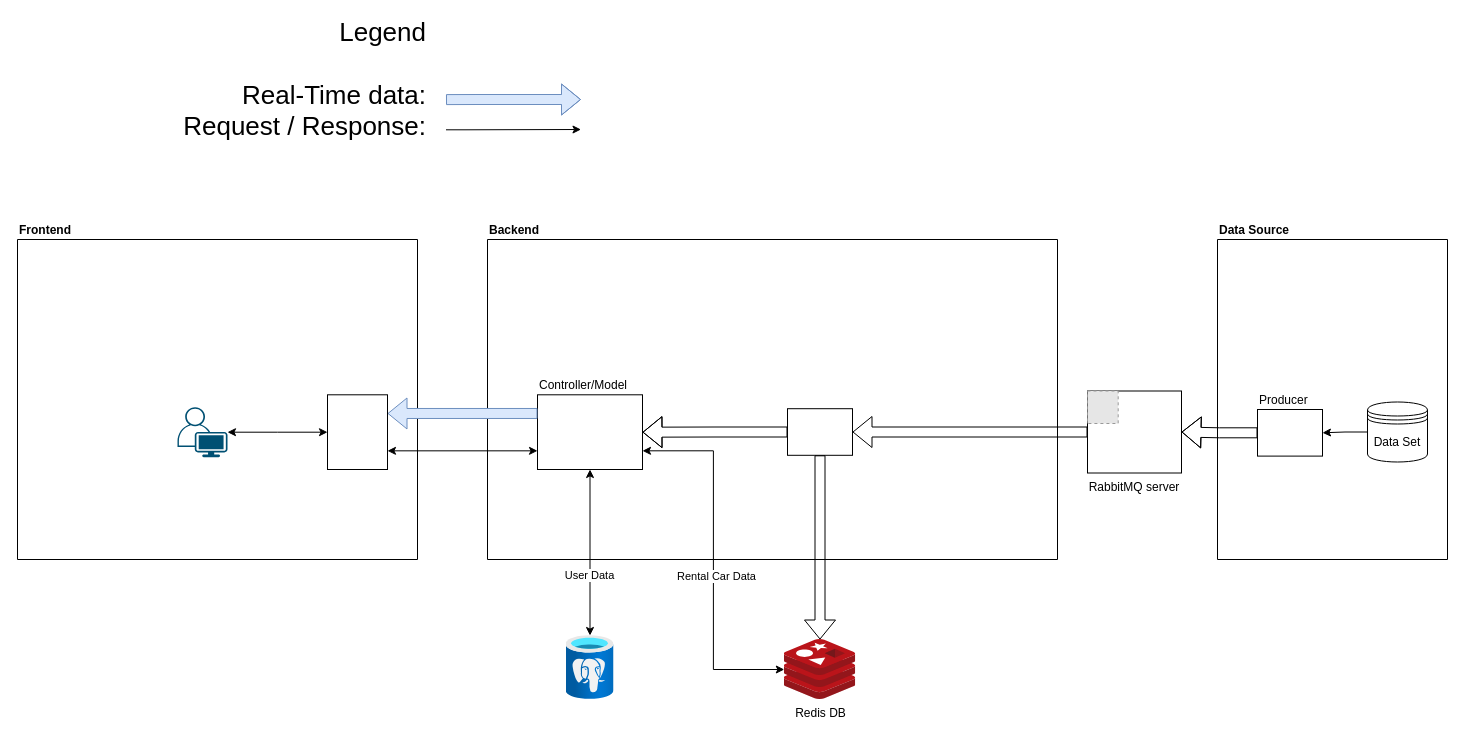
Some shapes in this 1465 by 738 pixel diagram are drawn without their labels. Grey dashed boxes stand in for pictures. The centre of each missing label's shape, as x and y in pixels:
Consumer: pixel 819 431
PostgreSQL DB: pixel 590 667
user: pixel 202 432
Webpage: pixel 357 432
